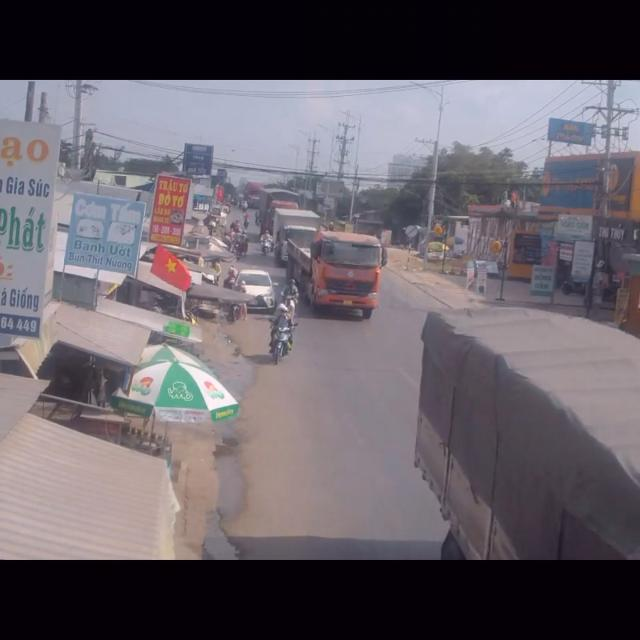motorbike: (270, 307, 289, 359), (282, 276, 297, 318)
truck: (409, 309, 640, 559), (285, 224, 384, 319)
